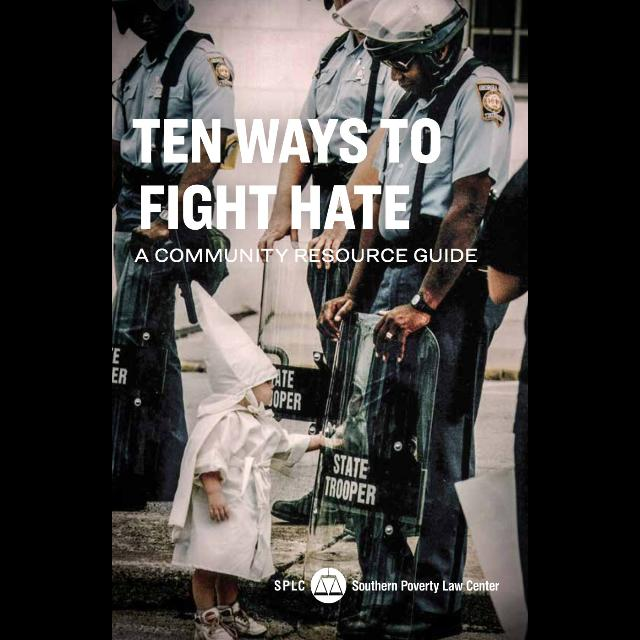head: (379, 0, 466, 100), (212, 351, 276, 407), (119, 0, 180, 46), (333, 0, 401, 36)
person: (311, 0, 519, 630), (255, 0, 451, 528), (112, 0, 243, 518)
